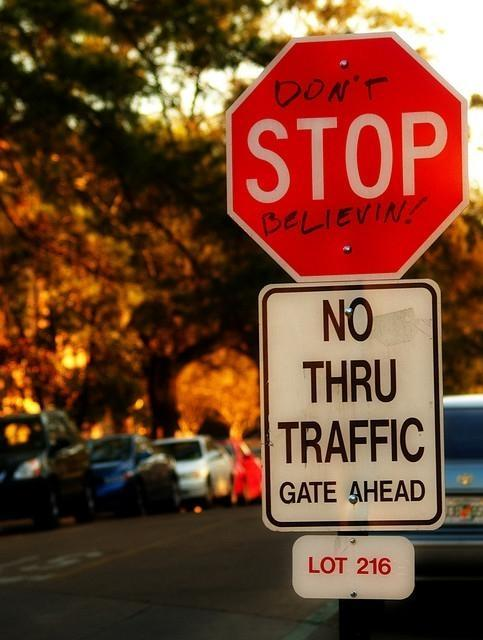car: (0, 409, 99, 532), (416, 392, 482, 568), (84, 431, 181, 522), (155, 435, 221, 501), (218, 434, 261, 504)
